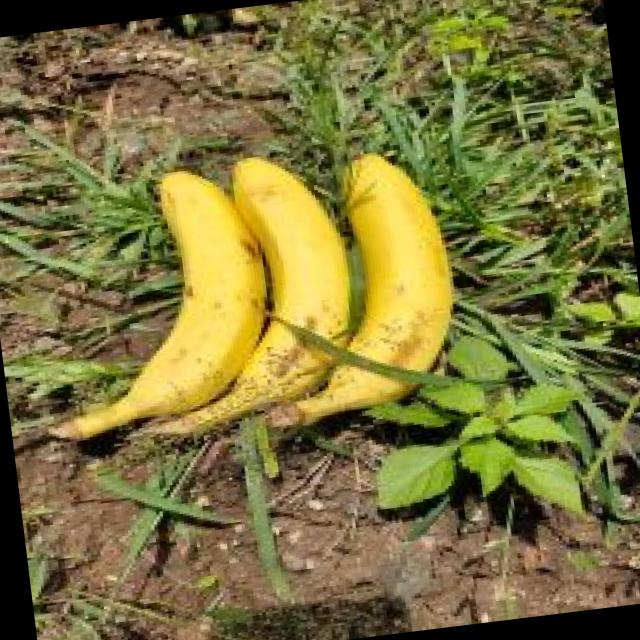banana: (23, 122, 537, 521)
